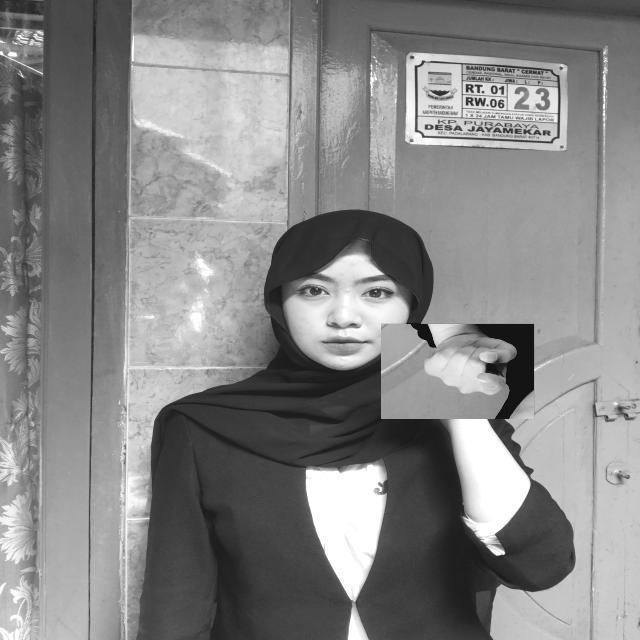kamu: (381, 323, 535, 419)
